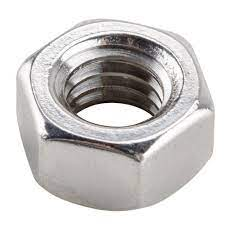Thread: (36, 23, 195, 141)
